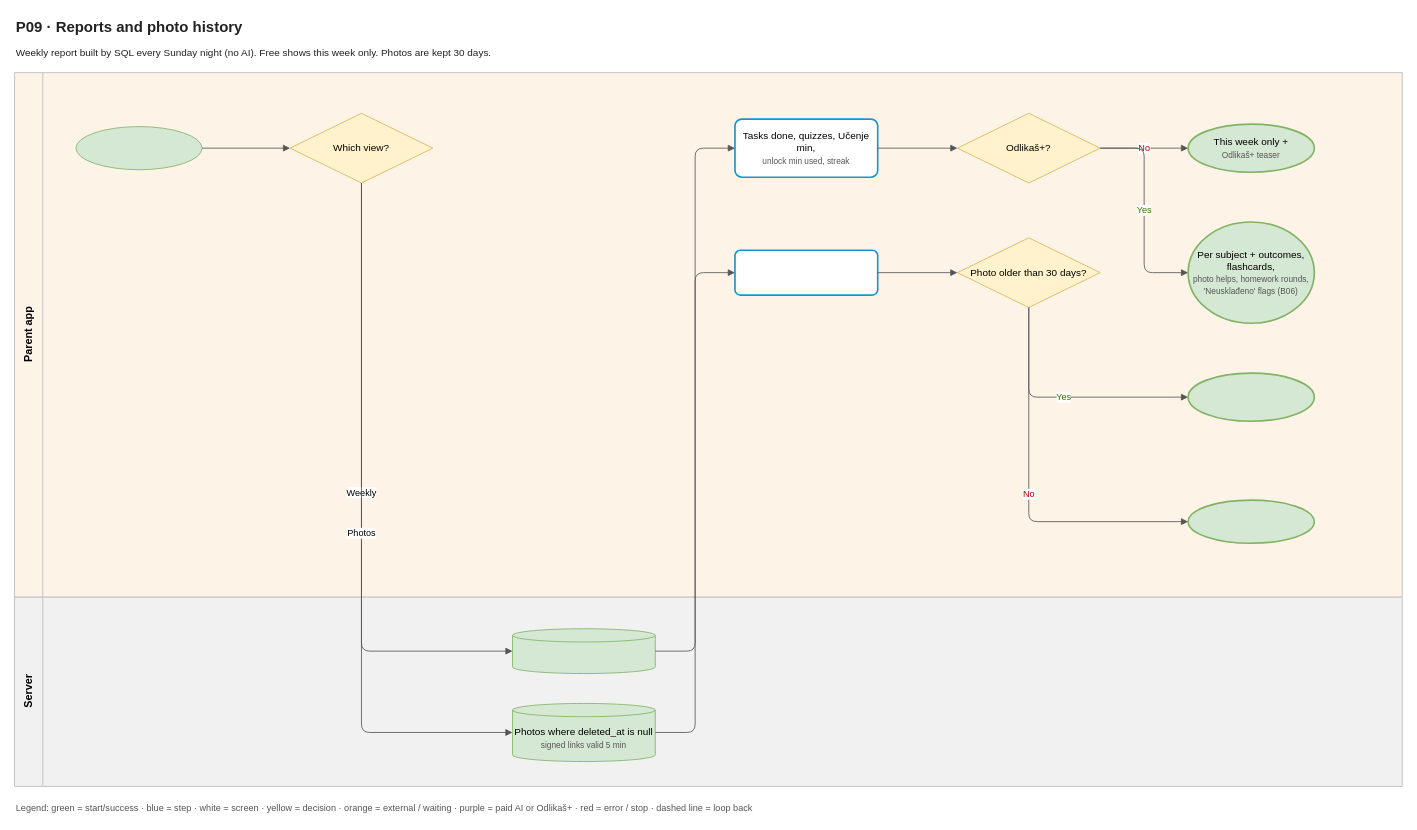
This 1417x830 diagram has some shape labels left out. Here are the shapes that lost their labels. From the top down, the centre of each, then its label:
point (138, 148): Parent: Izvještaj
point (806, 272): Photo history: help + homework
point (1251, 397): Deleted by nightly job (B05)
point (1251, 521): Full-size photo
point (583, 651): weekly_reports.stats (built Sunday night)
